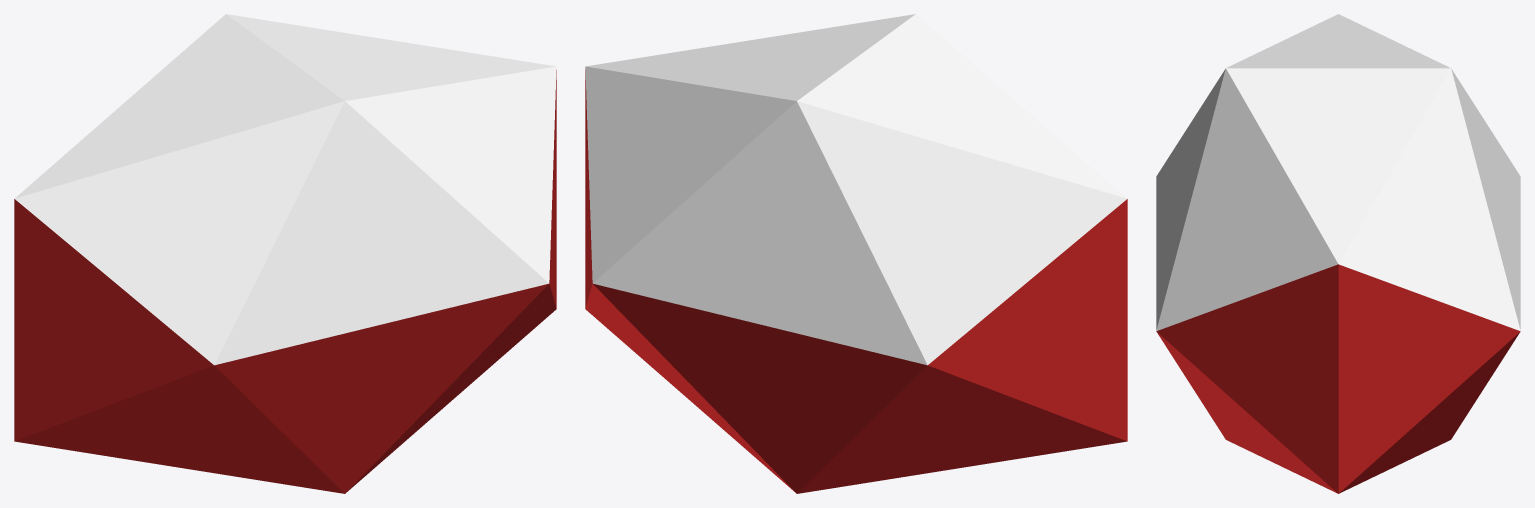
File: chunk.glb
3 renders of one model, left to right at view 1: azimuth 30°, elevation 25°; view 2: azimuth 150°, elevation 25°; view 3: azimuth 270°, elevation 25°, orthographic. The views are drawn at different scales.
Parts seen in each view (by area): view 1: Chunk; view 2: Chunk; view 3: Chunk.
Boxes of the visible parts, x1,y1,x2,y2 form: Chunk: [14, 14, 556, 493]; Chunk: [585, 14, 1127, 493]; Chunk: [1156, 14, 1520, 493].
Bounding box in the file's own units: 0.376 × 0.2603 × 0.2314.
